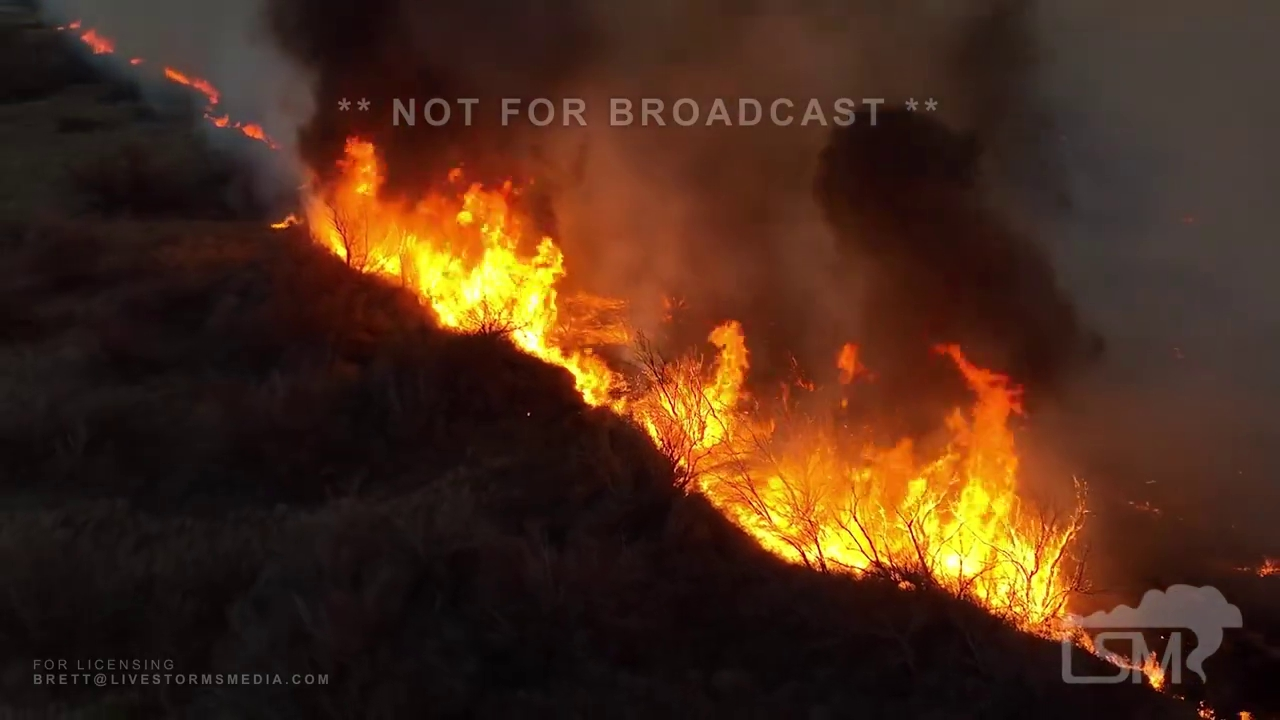forest_fire: (302, 137, 1194, 689), (159, 66, 278, 149), (58, 20, 114, 55)
